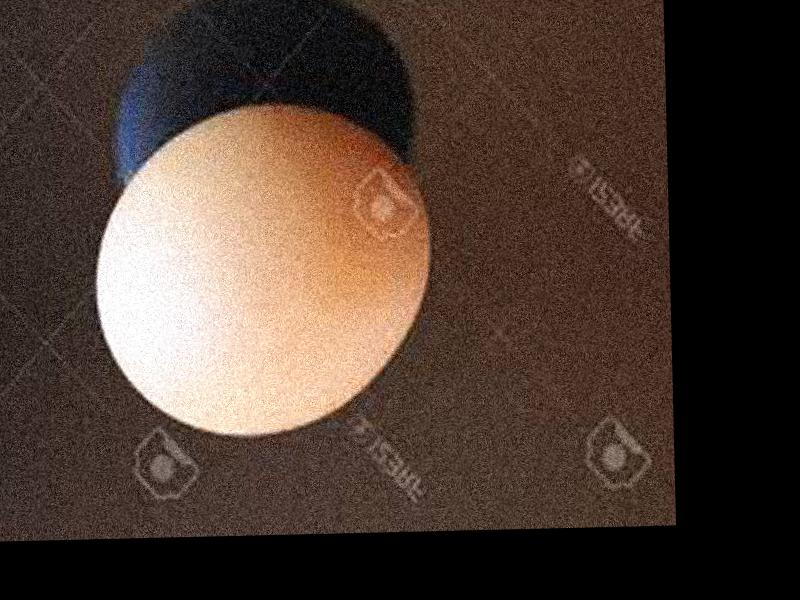Eggs: (90, 97, 432, 440)
